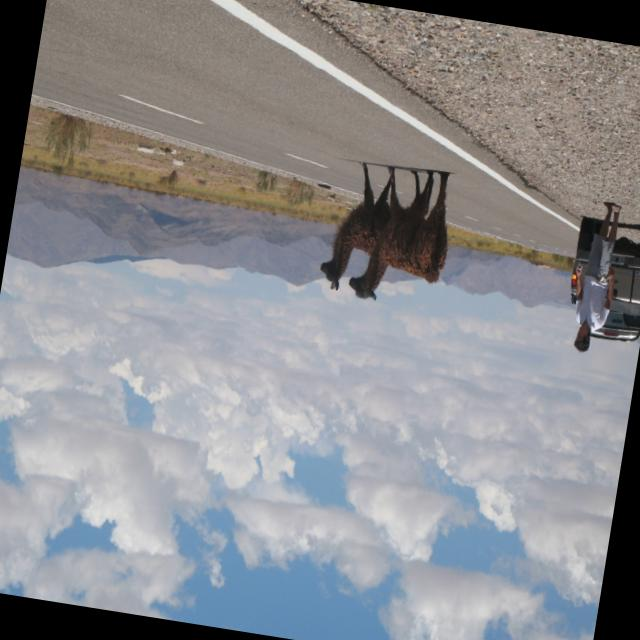alpaca: (317, 156, 438, 305), (348, 160, 458, 312)
